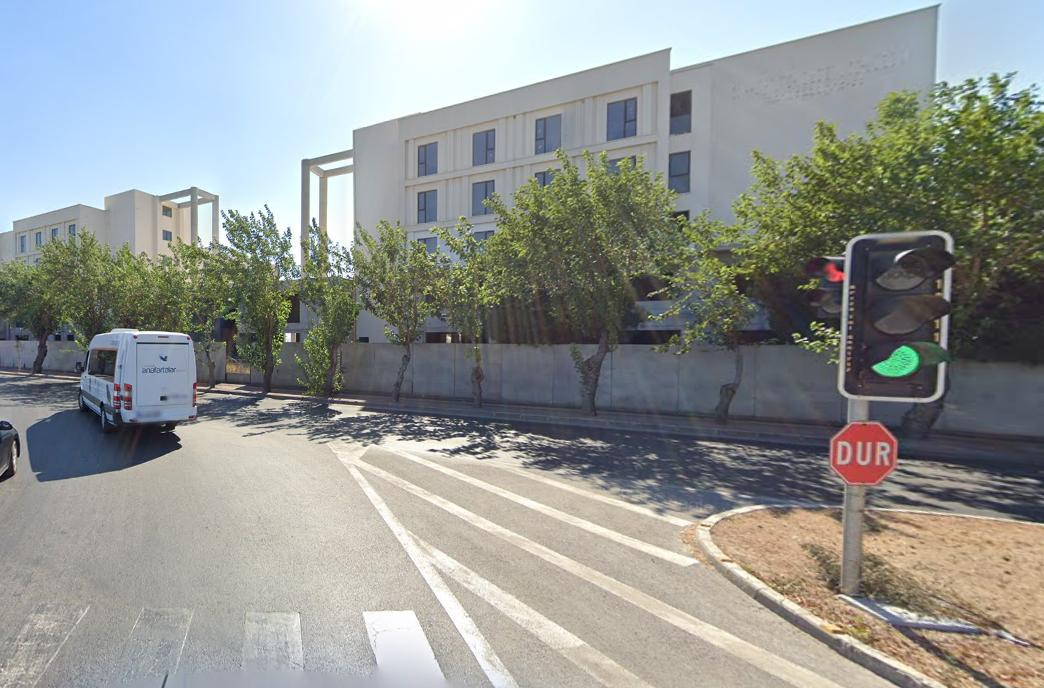greenlight: (848, 237, 946, 387)
stop: (829, 423, 900, 483)
